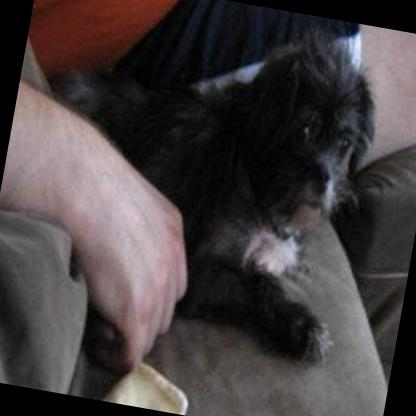affenpinscher: (0, 0, 394, 413)
